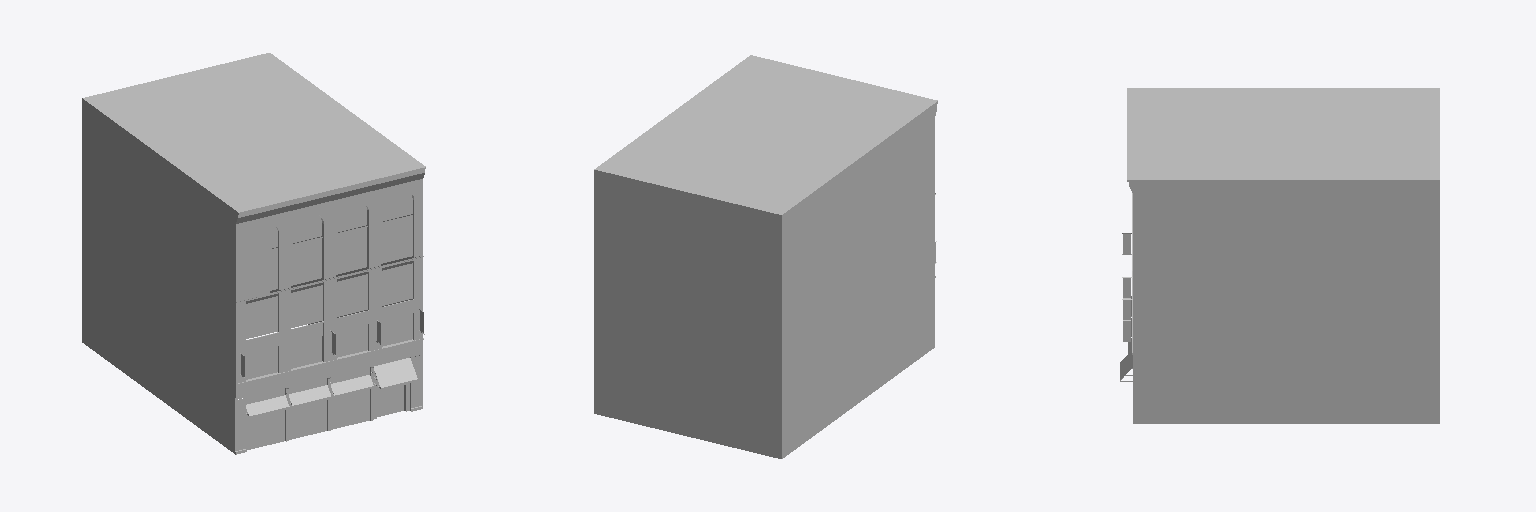
File: Building.obj
3 views of the same model, side by side, from view 1: azimuth 30°, elevation 25°; view 2: azimuth 150°, elevation 25°; view 3: azimuth 270°, elevation 25° (orthographic).
Visible parts, largest first — view 1: Object_4; view 2: Object_4; view 3: Object_4.
Boxes of the visible parts, <box> form: Object_4: <box>82,53,425,454</box>; Object_4: <box>594,55,937,458</box>; Object_4: <box>1120,88,1439,423</box>.
Bounding box in the file's own units: 76.71 × 95.43 × 113.